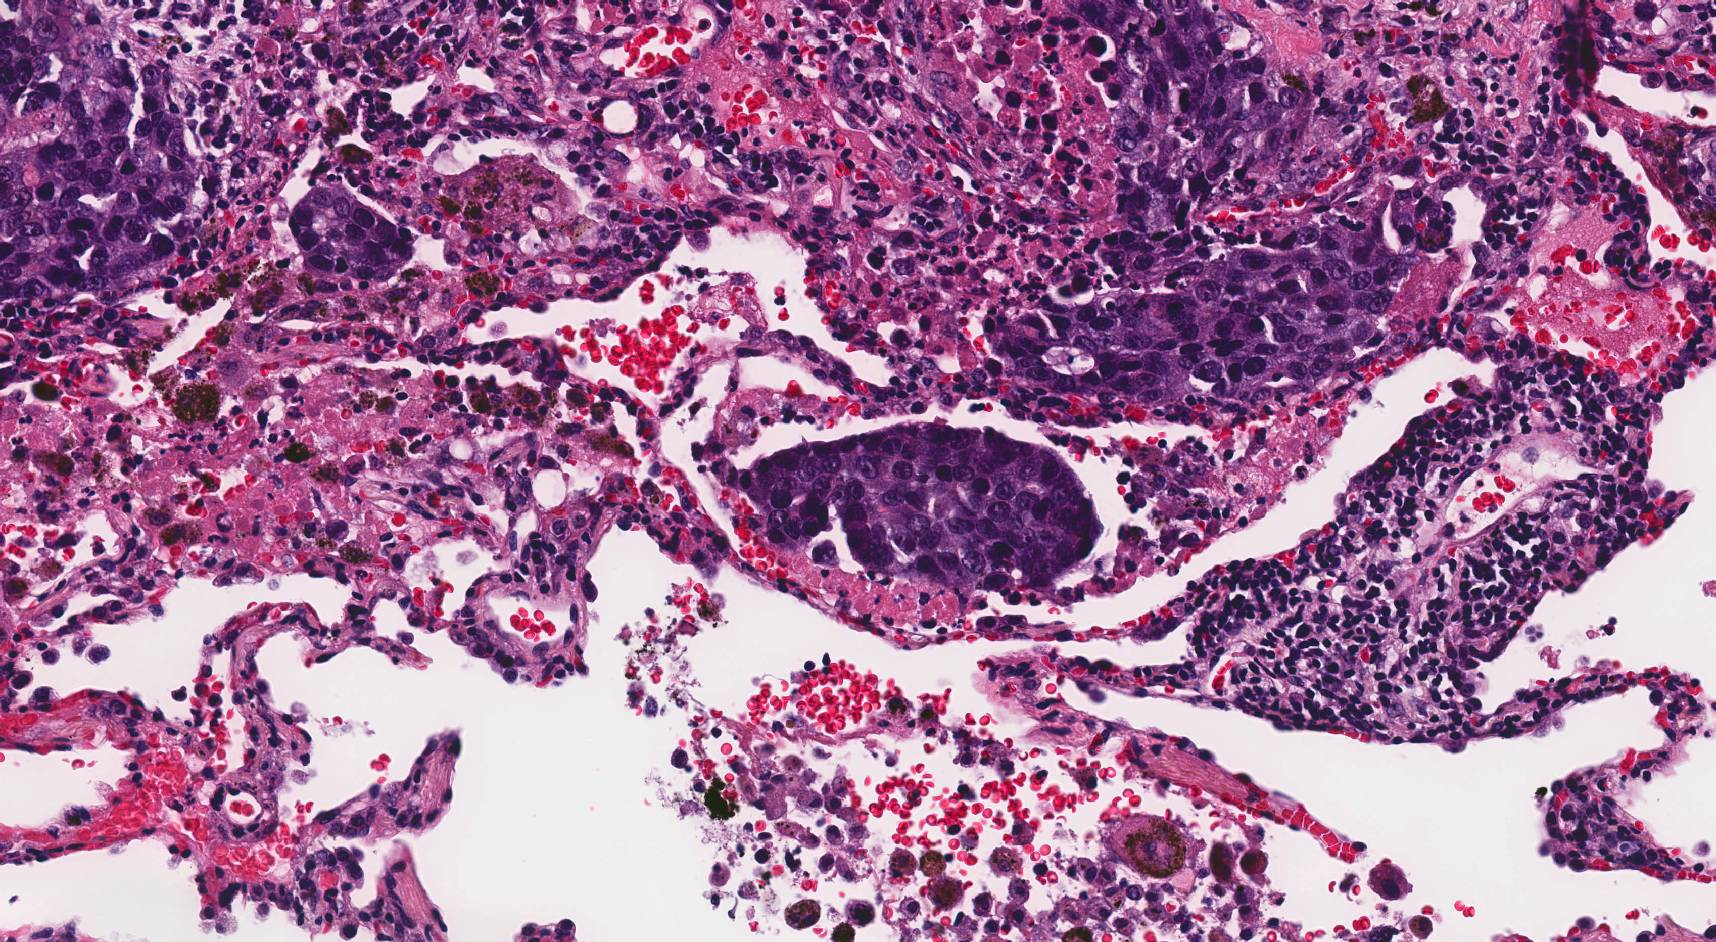stas: (733, 420, 1106, 595), (290, 188, 419, 281)
